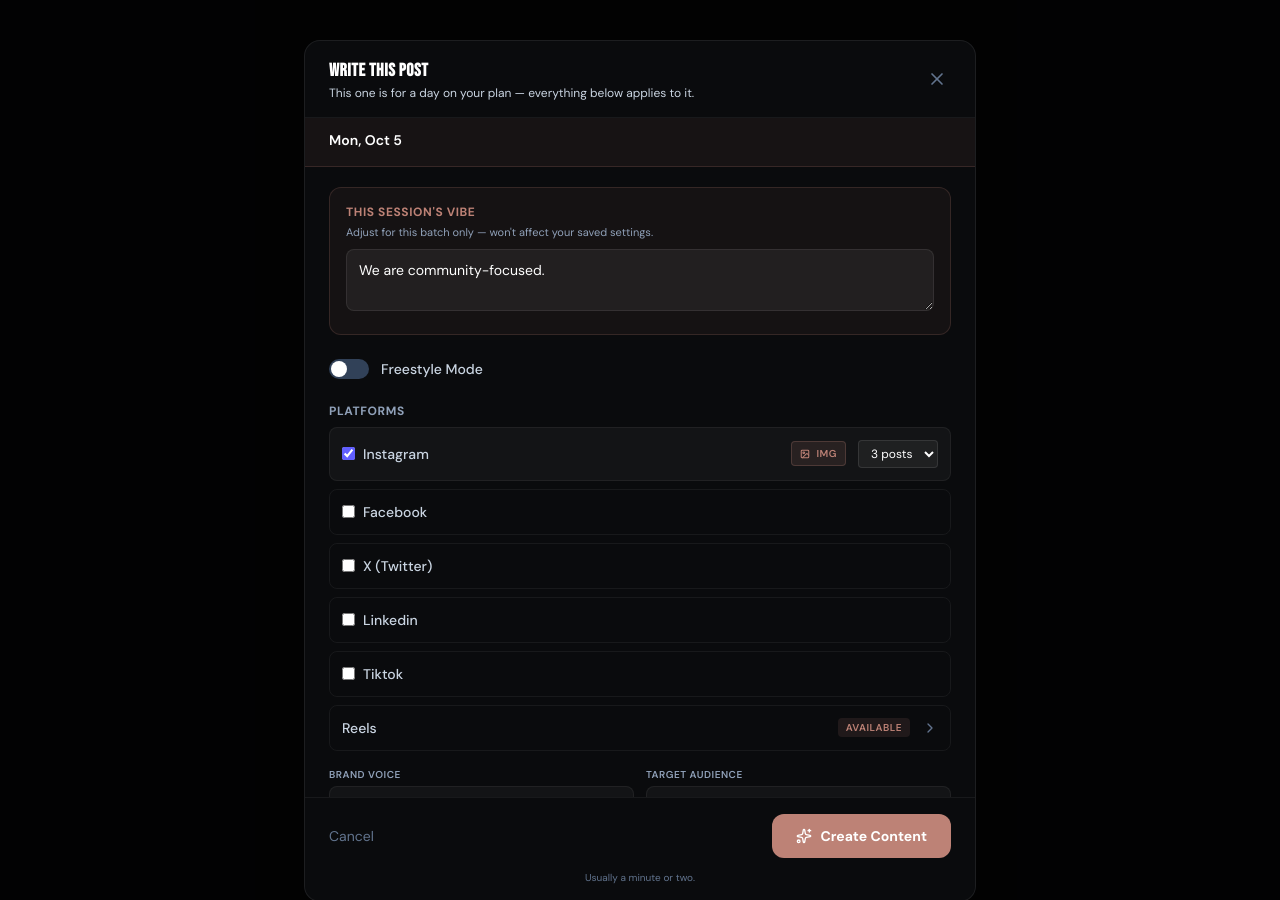
Test: slot run: the outcome reaches the modal › a 3-post slot run that fails says "these posts"
Click the button "Create Content".
click(862, 836)  # box [772,814,951,858]
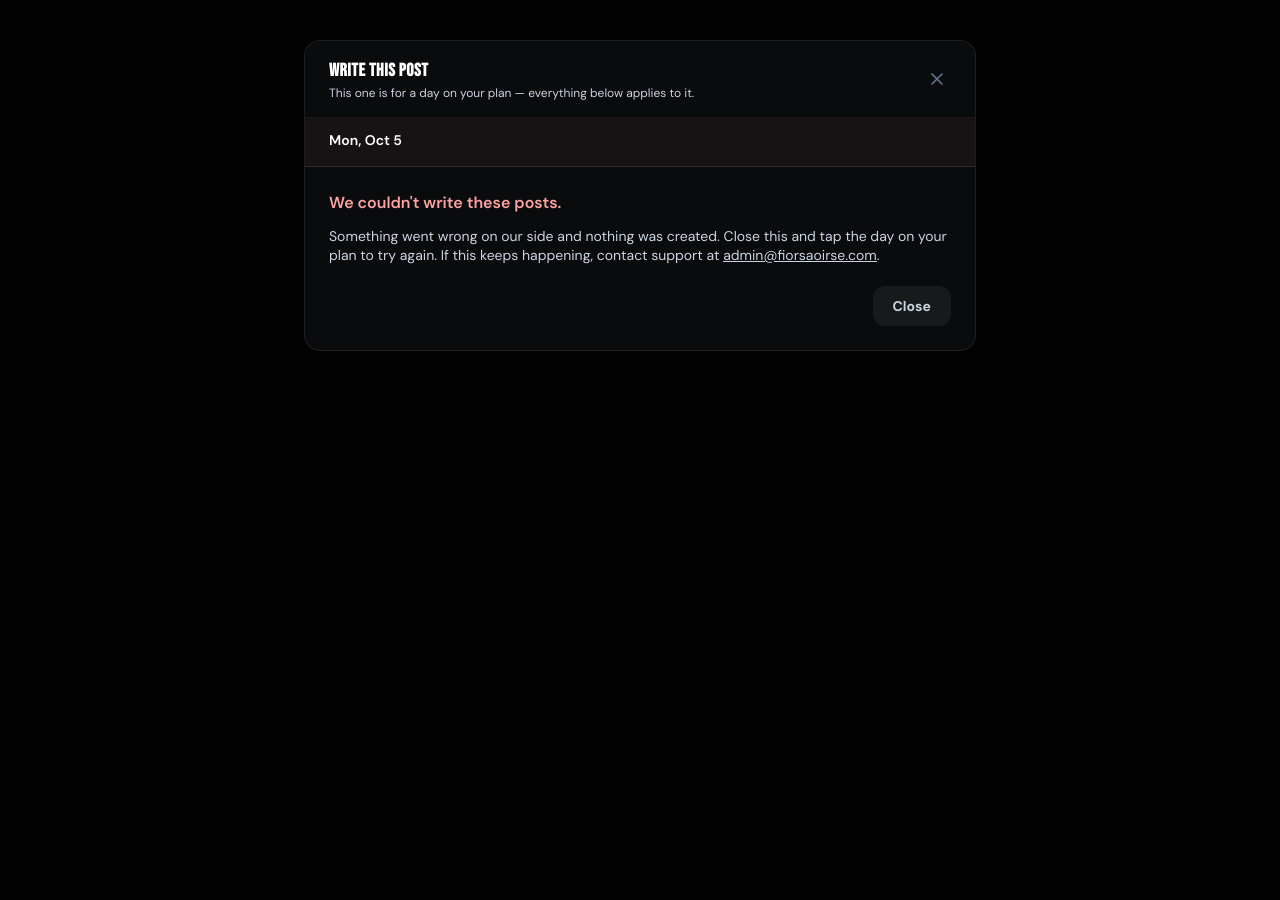
Now the heading "We couldn't write these posts." is shown, box [329,192,561,213]
